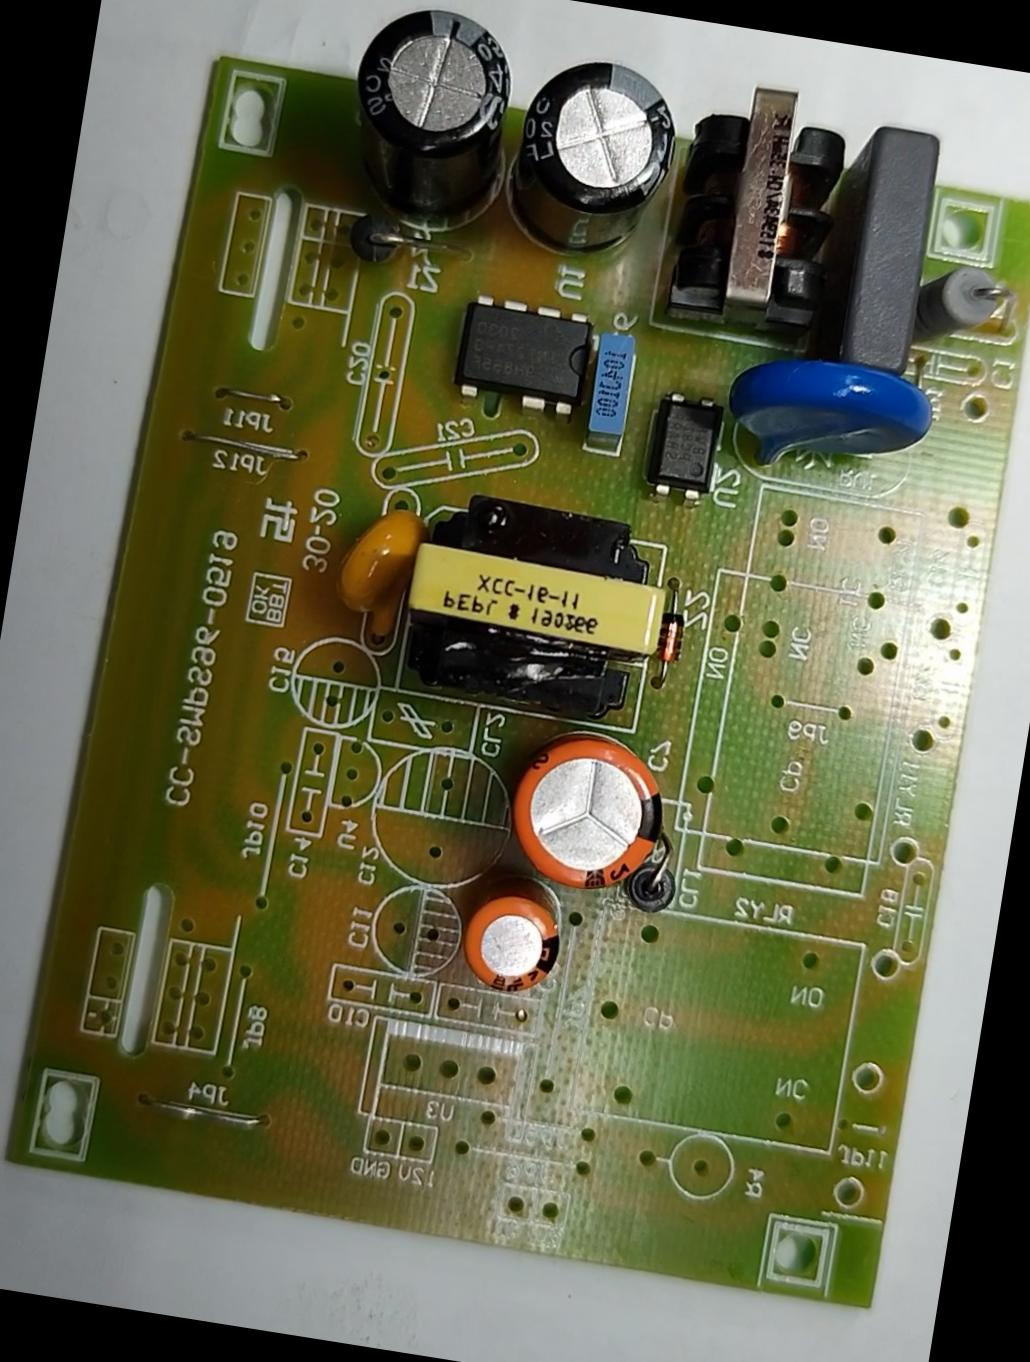Cap1: (490, 716, 676, 902)
Cap2: (450, 870, 572, 1005)
Cap3: (488, 37, 696, 279)
Cap4: (331, 0, 533, 244)
MOSFET: (449, 286, 602, 426)
Mov: (713, 340, 948, 501)
Resistor: (901, 249, 1018, 371)
Transformer: (348, 477, 691, 739)
